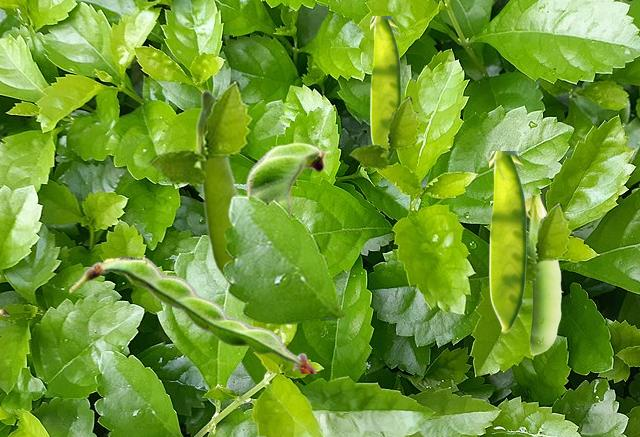pea: (69, 256, 316, 372), (195, 88, 243, 304), (489, 151, 526, 332), (243, 142, 330, 216), (526, 190, 560, 354), (370, 16, 400, 160)
